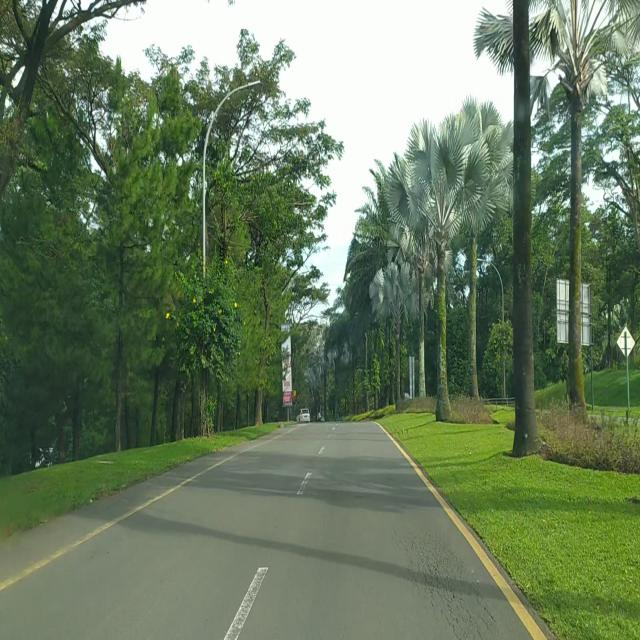Drain Hole: (394, 520, 498, 638)
